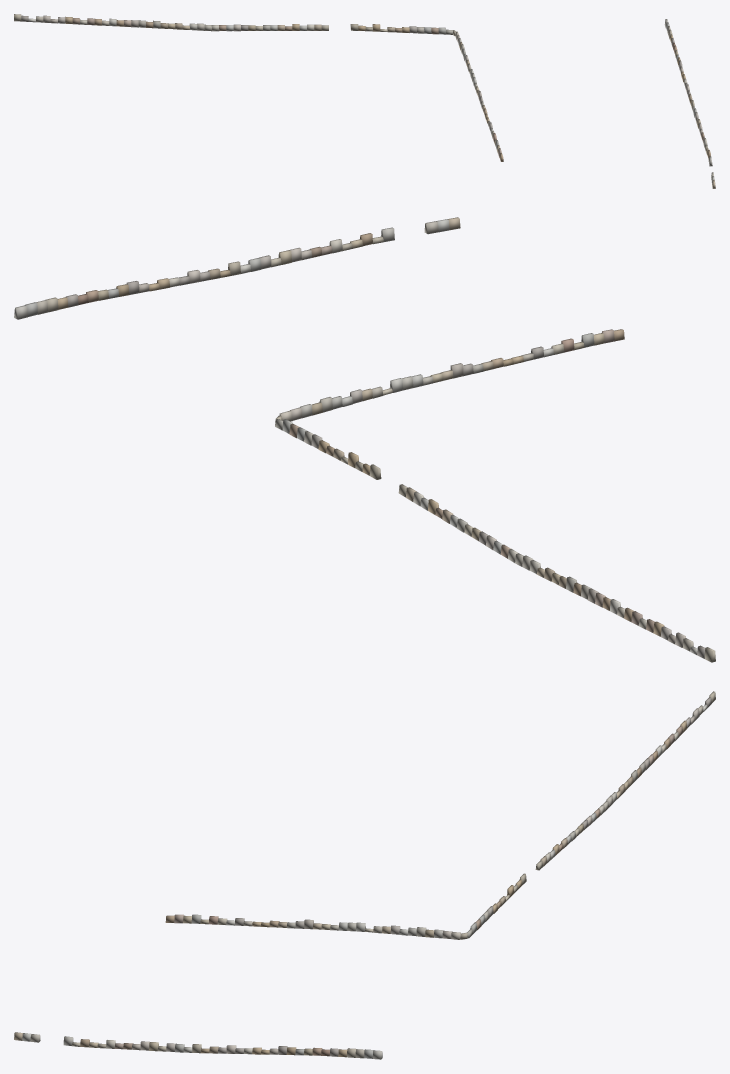
Rendered from farm_0_14_collision.glb.
The picture shows the model from 3 angles, top to bottom: view 1: azimuth 30°, elevation 25°; view 2: azimuth 150°, elevation 25°; view 3: azimuth 270°, elevation 25°; orthographic projection. The views are drawn at different scales.
Parts seen in each view (by area): view 1: geometry_0; view 2: geometry_0; view 3: geometry_0.
Part boxes in pixels (x1,y1,x2,y2): geometry_0: [14, 14, 715, 188]; geometry_0: [14, 217, 715, 662]; geometry_0: [14, 691, 715, 1059].
Size of the model in its own units: 131 by 17.41 by 122.
